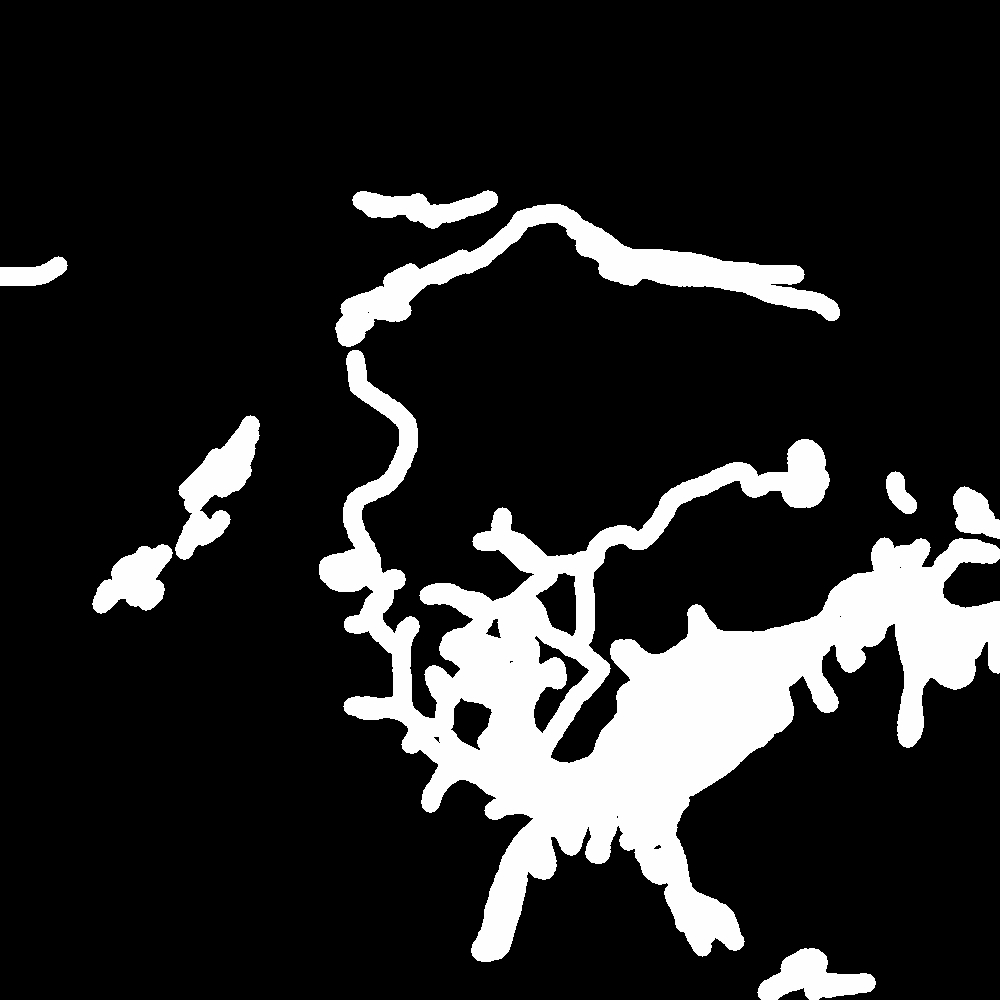illegal: (322, 388, 1000, 885), (464, 199, 841, 320), (323, 390, 422, 756), (602, 435, 824, 564), (107, 527, 198, 624), (190, 411, 278, 504), (661, 881, 747, 964), (765, 951, 880, 1000), (1, 240, 107, 288), (333, 296, 406, 340), (343, 192, 457, 219), (464, 921, 510, 966), (415, 258, 456, 281)
